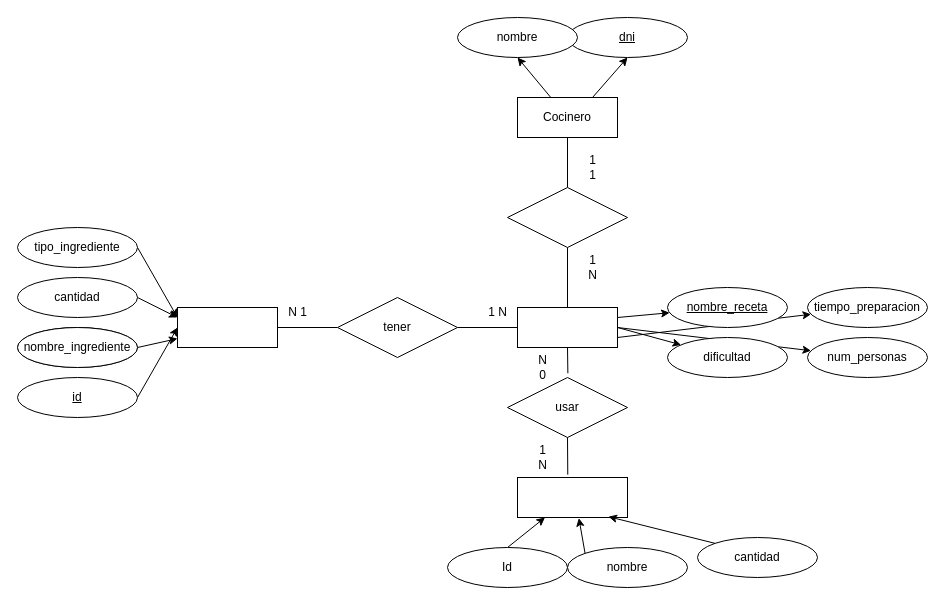
Image size: 945x605. Some labels were removed from this diagram. The centre of each missing label's shape, as x and y in pixels:
"crear" goes at point 567,217.
"Ingredientes" goes at point 227,327.
"Receta" goes at point 567,327.
"Utensilios" goes at point 572,497.
